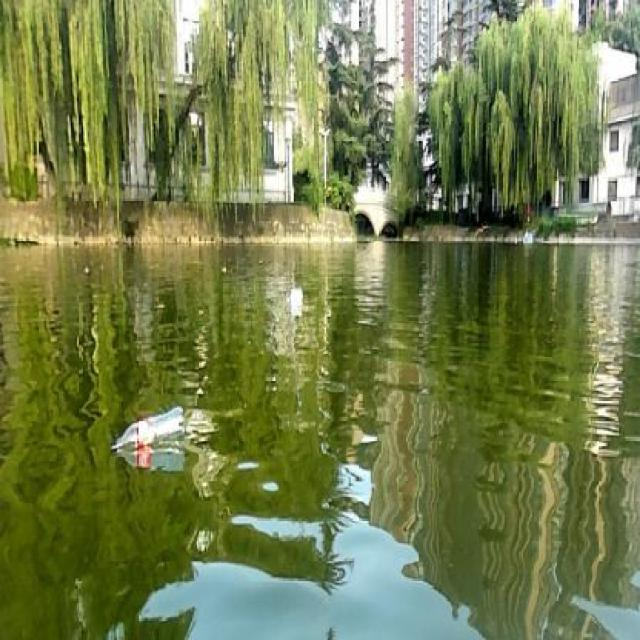Bottle: (104, 402, 195, 466)
